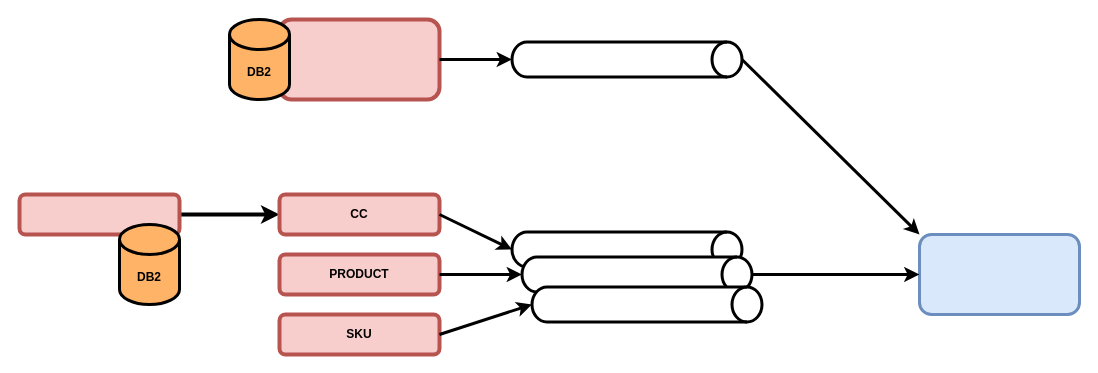
Some shapes in this 1098 by 373 pixel diagram are drawn without their labels. Each missing label, with the centre of its shape:
APICE: point (99, 214)
READER: point (999, 274)
WATCHER: point (359, 59)
